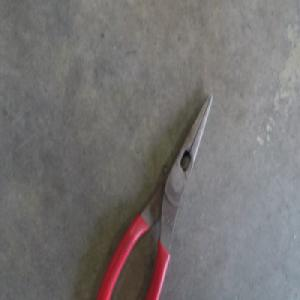Pliers: (95, 93, 212, 299)
